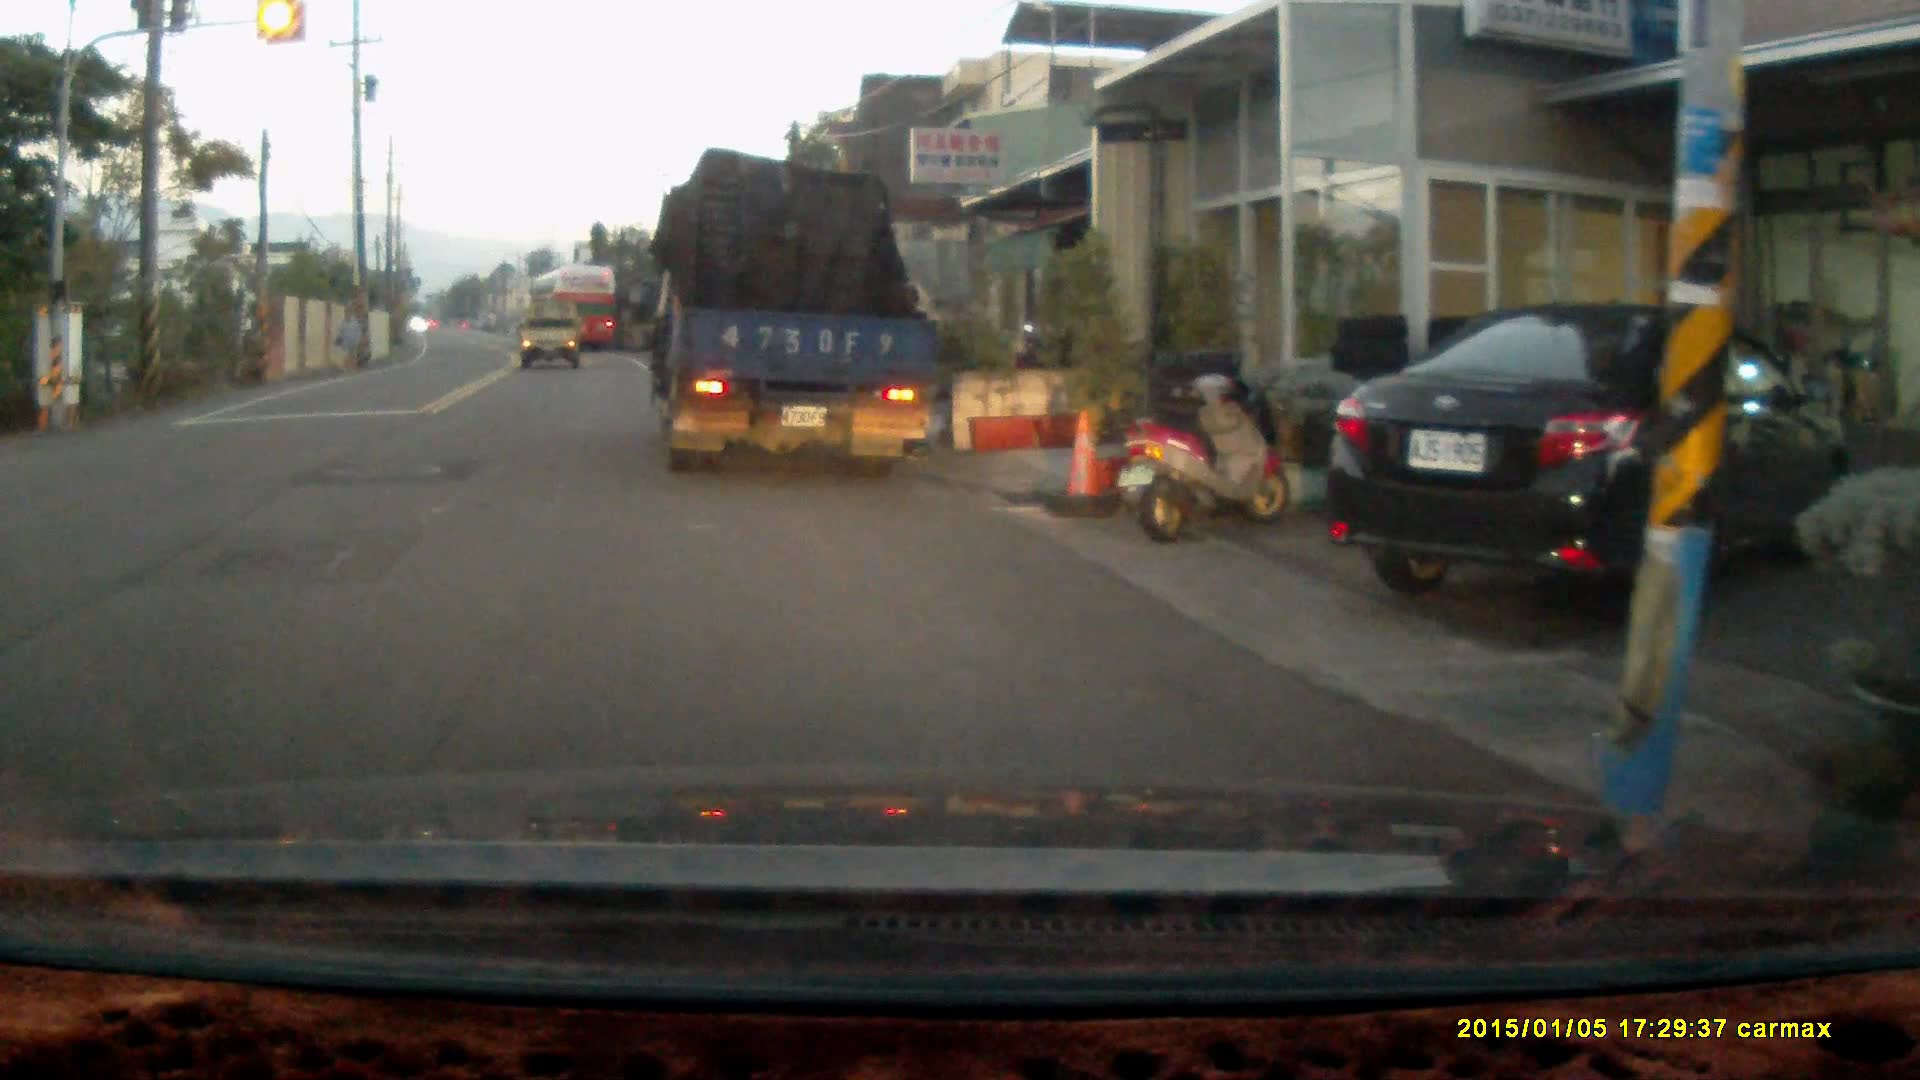pedestrian: (330, 300, 362, 369)
vehicle: (1318, 298, 1863, 628), (642, 156, 933, 476), (531, 265, 625, 356), (518, 293, 584, 372)
